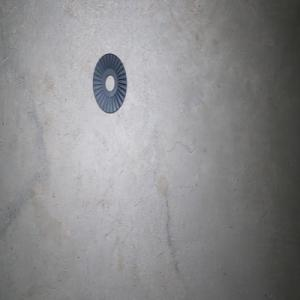Washer: (92, 53, 126, 113)
